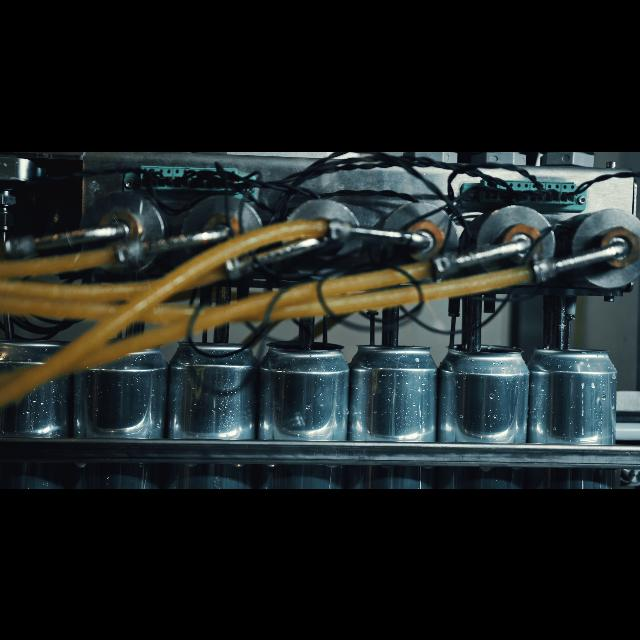empty: (260, 346, 356, 488), (78, 344, 170, 488), (441, 344, 531, 488), (170, 339, 256, 488), (354, 336, 438, 488), (0, 339, 78, 488), (534, 344, 614, 488)
